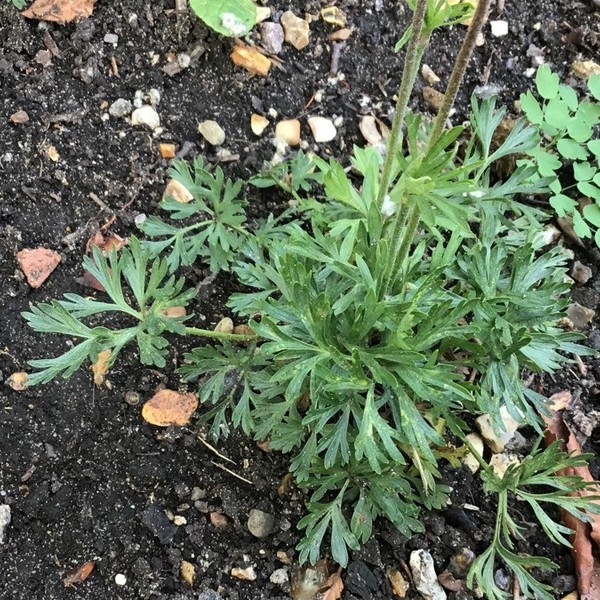obstacle: (99, 118, 549, 504)
